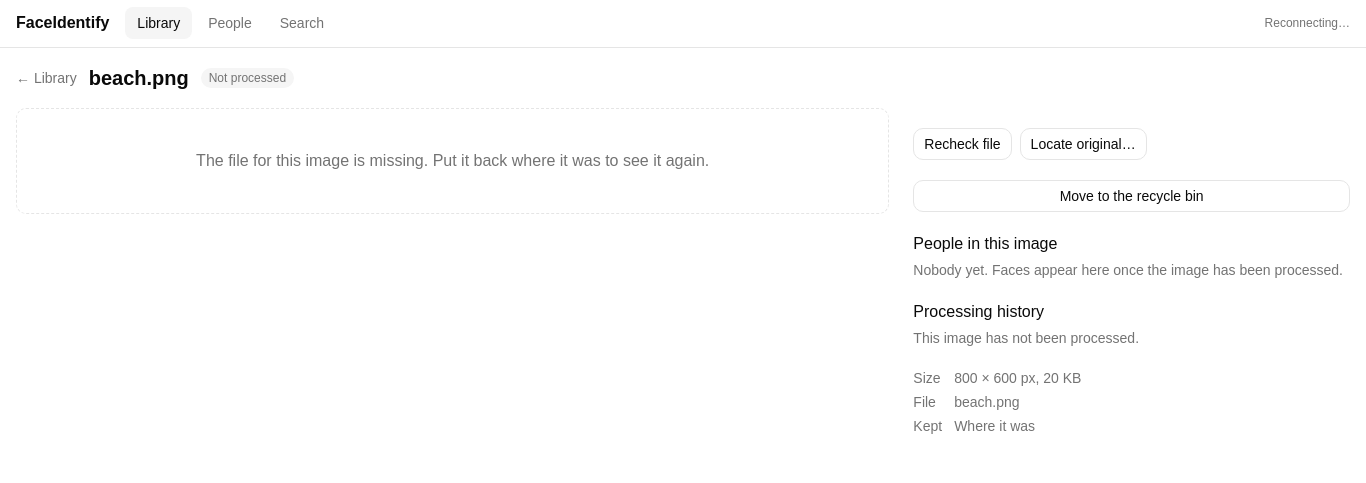
Test: a missing original › locates a referenced original with the native dialog
The image size is (1366, 483).
Step 1. Click the button "Locate original…" → click(1083, 144), box [1020, 128, 1147, 160]
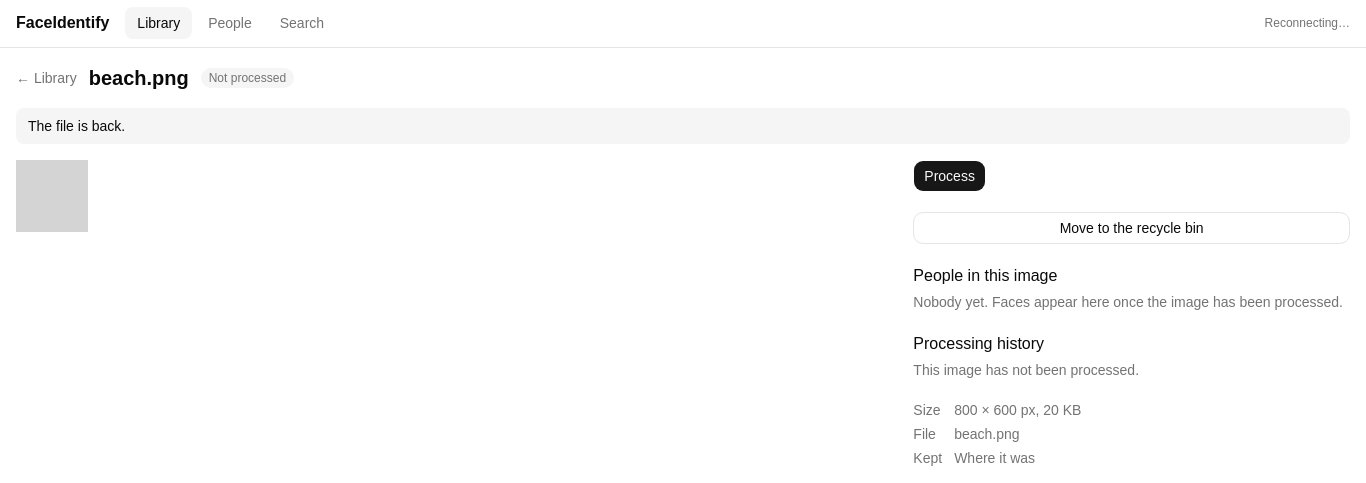
Result: the message named "Source notice" reads "The file is back." at [28, 118, 125, 134]
